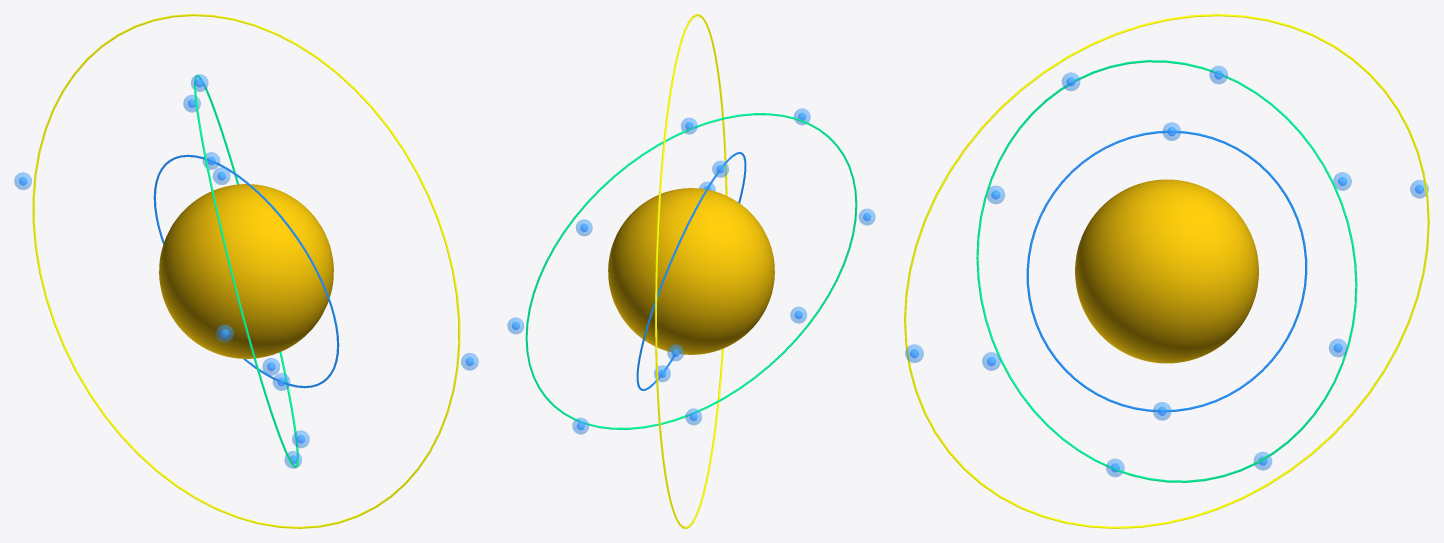
3 renders of one model, left to right at view 1: azimuth 30°, elevation 25°; view 2: azimuth 150°, elevation 25°; view 3: azimuth 270°, elevation 25°, orthographic. The views are drawn at different scales.
Parts seen in each view (by area): view 1: Mg, object 24, object 7, object 2; view 2: Mg, object 7, object 24, object 2; view 3: Mg, object 24, object 7, object 2.
Boxes of the visible parts, x1,y1,x2,y2 form: Mg: (159,184,333,358); object 24: (32,14,460,528); object 7: (194,75,298,467); object 2: (153,154,339,388); Mg: (608,188,774,354); object 7: (525,113,857,429); object 24: (655,14,727,528); object 2: (636,152,746,390); Mg: (1075,179,1258,363); object 24: (904,14,1429,528); object 7: (976,60,1357,482); object 2: (1026,130,1307,412).
Size of the model in its own units: 2.29 by 4.82 by 4.46.
